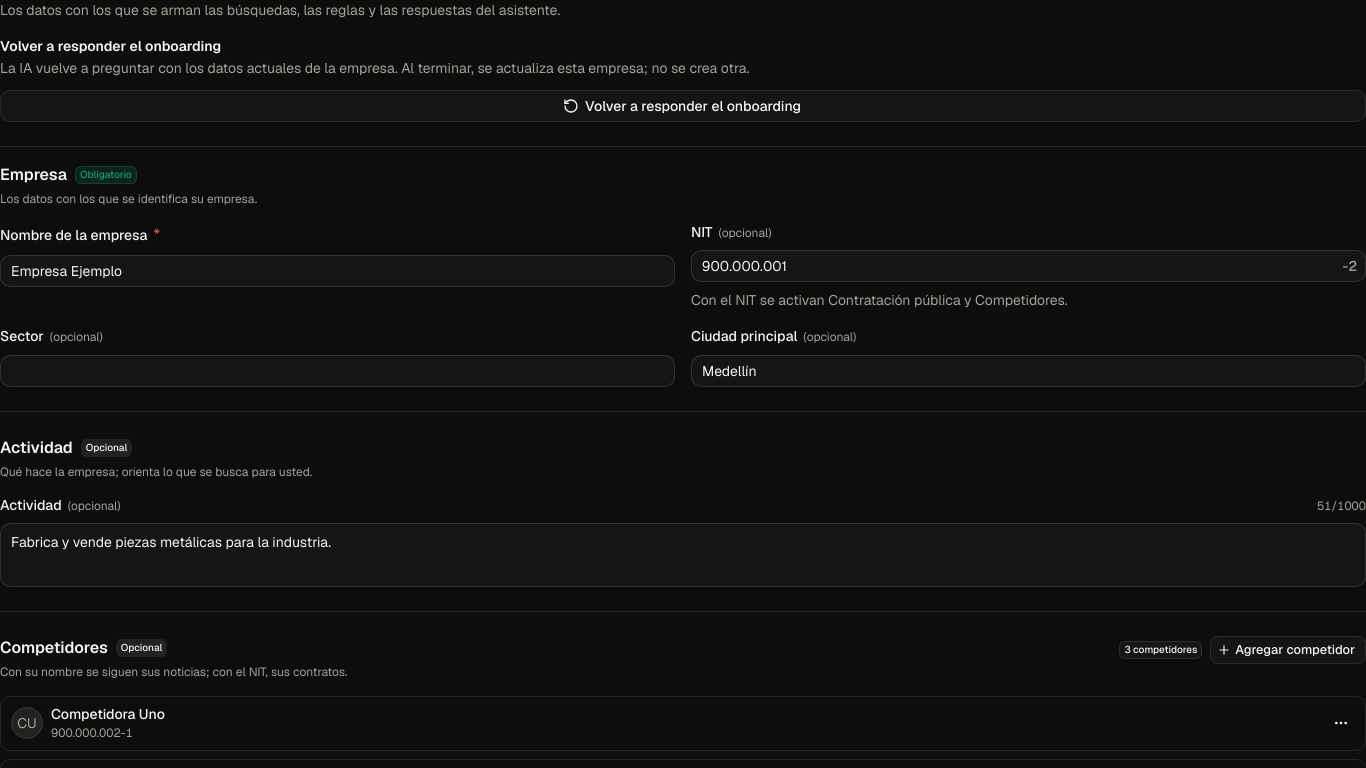
Scenario: EmpresaTab › hides the actions until something changes, and again after saving
Check: the button "Guardar cambios" is not shown
Check: the button "Descartar" is not shown
In the field labelled "Ciudad principal": (1028, 370) 691,354 -> 1365,386, type " Norte"
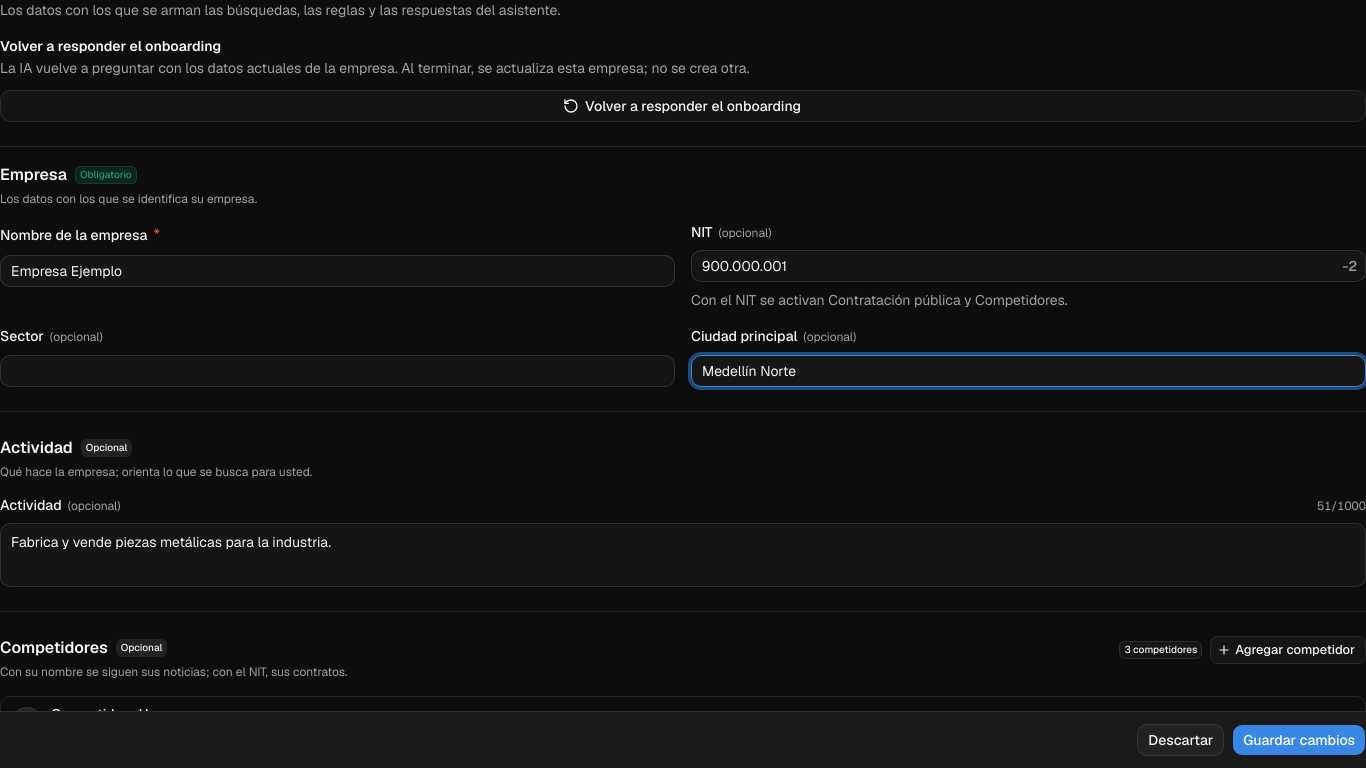
Click the button "Guardar cambios": (1299, 740) 1232,724 -> 1365,756
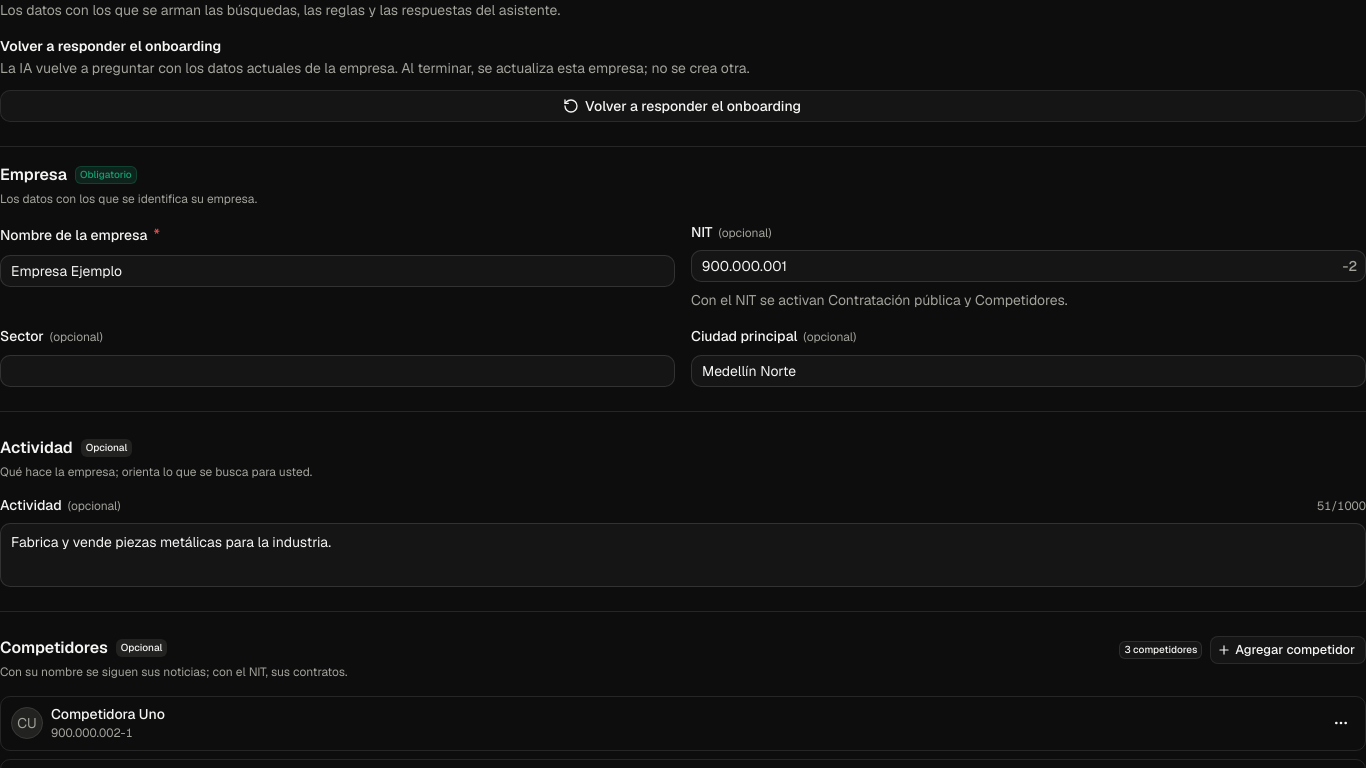
Check: the button "Guardar cambios" is gone
